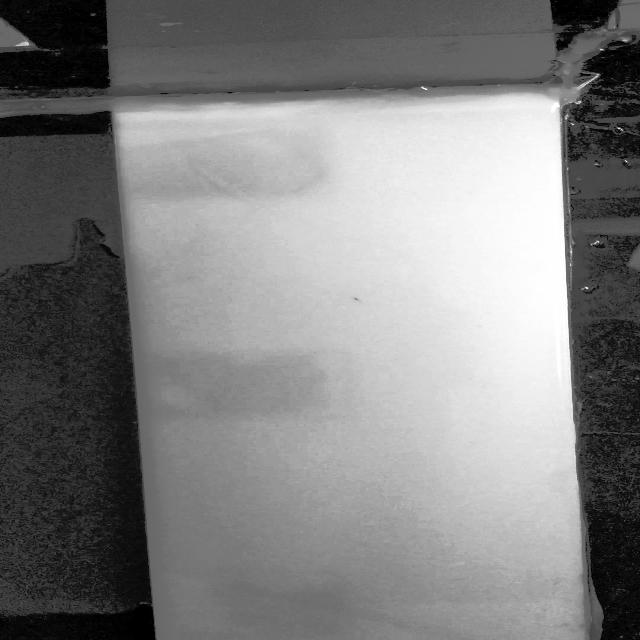shrimp: (345, 292, 372, 307)
